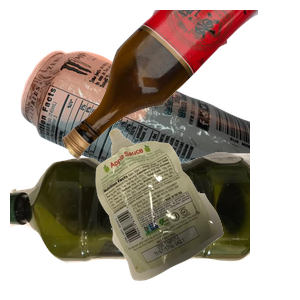glass: (60, 10, 300, 163)
metal: (18, 48, 258, 228)
plastic: (10, 149, 250, 300)
trash: (93, 126, 300, 300)
